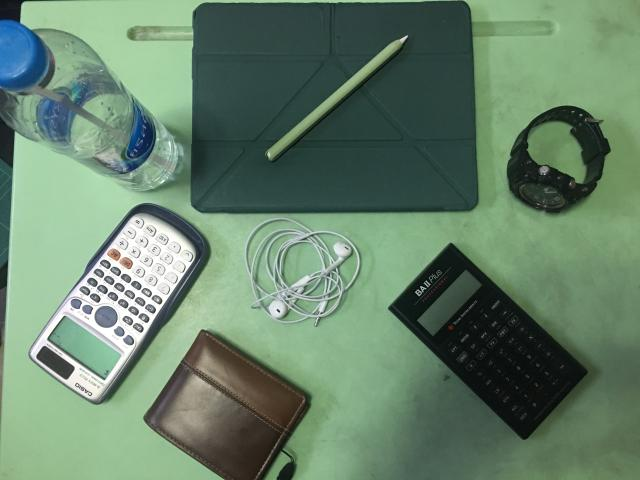Wallet: (144, 330, 309, 479)
Watch: (508, 106, 610, 212)
bottle: (0, 20, 178, 190)
wire: (245, 218, 360, 325)
